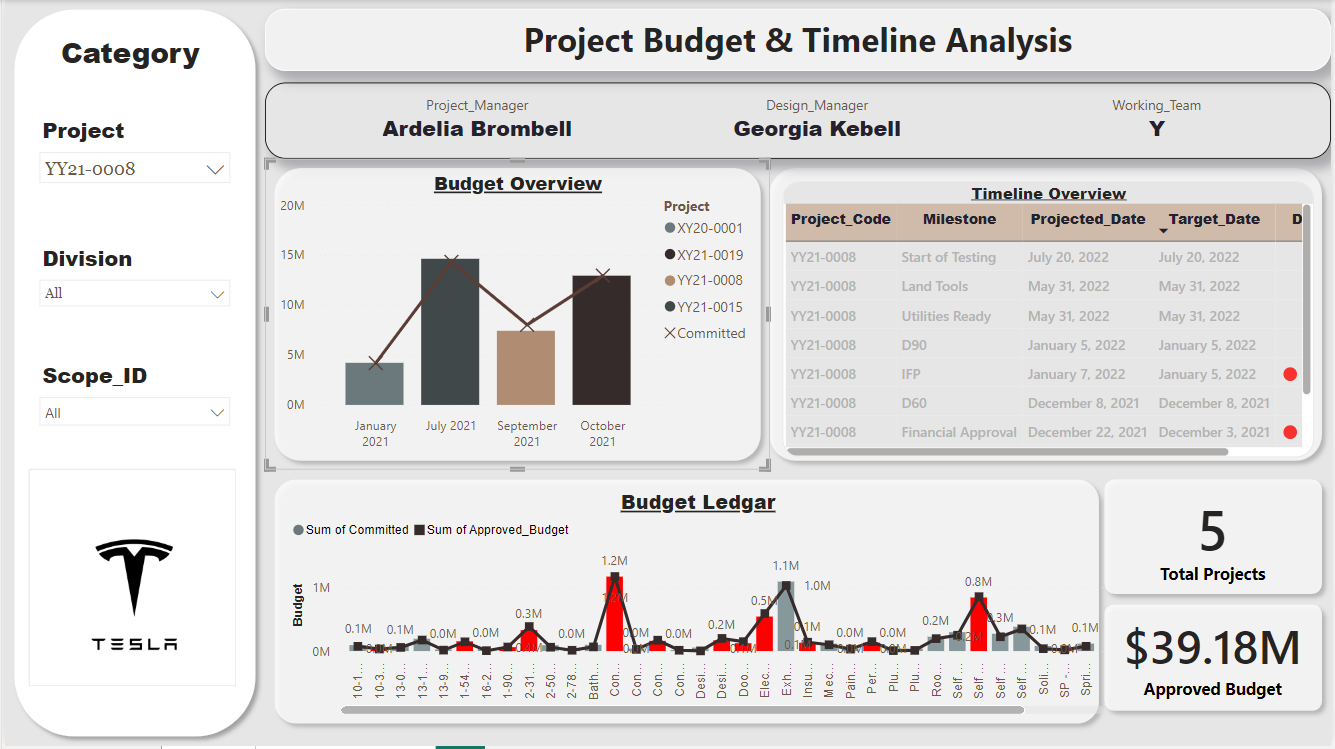

The dashboard page shown, as its layout file describes it:
{"tool":"powerbi","page":{"name":"Test_Module","canvas":[1280,720],"ordinal":0},"visuals":[{"type":"textbox","box":[250.9,8.4,1029.1,60.3],"z":0},{"type":"shape","box":[0,0,250.9,719.8],"z":1000},{"type":"shape","box":[250.9,453.3,813.9,253.7],"z":2000},{"type":"shape","box":[728.7,153.2,551.3,300.4],"z":3000},{"type":"shape","box":[1051.9,453.6,228.1,128.7],"z":4000},{"type":"slicer","fields":{"Values":["Project.Project_Code"]},"box":[23.3,105.7,204.5,96.1],"z":5000},{"type":"shape","box":[250.9,153.2,487.4,300.4],"z":5000,"group":"g1"},{"type":"slicer","fields":{"Values":["Transformed_Project_budget.Division"]},"box":[23.3,229.2,204.5,170.2],"z":6000},{"type":"image","box":[0,428.3,249.7,292],"z":7000},{"type":"cardVisual","fields":{"Data":["Project.Project_Manager","Project.Design_Manager","Project.Working_Team"]},"box":[250.9,79.6,1029.1,73.6],"z":8000},{"type":"textbox","box":[39.8,26.1,161.9,53.5],"z":9000},{"type":"group","id":"g1","title":"Group 1","box":[250.9,153.2,487.4,300.4],"z":10000},{"type":"lineClusteredColumnComboChart","title":"Budget Ledgar","fields":{"Category":["Project.Project_Code","Transformed_Project_budget.Scope"],"Y":["Sum(Transformed_Project_committed.Committed)"],"Y2":["Sum(Transformed_Project_budget.Approved_Budget)"]},"box":[272.2,470.4,792.5,223.8],"z":11000},{"type":"tableEx","title":"Timeline Overview","fields":{"Values":["Project.Project_Code","Milestone.Milestone","Milestone.Projected_Date","Milestone.Target_Date","Milestone.KPI 1"]},"box":[750.4,174.9,512.7,266.6],"z":12000},{"type":"slicer","fields":{"Values":["Transformed_Project_budget.Scope_ID"]},"box":[22.5,342.2,204.3,151.2],"z":13000},{"type":"actionButton","box":[23.3,452.8,200.3,209.9],"z":14000},{"type":"lineStackedColumnComboChart","title":"Budget Overview","fields":{"Category":["Project.Start_Date"],"Series":["Project.Project_Code"],"Y":["Sum(Transformed_Project_budget.Approved_Budget)"],"Y2":["Sum(Transformed_Project_committed.Committed)"]},"box":[260.1,163.8,469.1,277.9],"z":14006,"group":"g1"},{"type":"shape","box":[1052,574.3,228,132.7],"z":15000},{"type":"card","fields":{"Values":["Sum(Transformed_Project_budget.Approved_Budget)"]},"box":[1069.1,574.3,193.7,118.1],"z":16000},{"type":"card","fields":{"Values":["CountNonNull(Project.Project_ID)"]},"box":[1069.1,462.9,193.7,111.4],"z":17000}]}

Visuals, with their boxes in screenshot pixels (x1, y1, x2, y2), scaled from the page's 1280x720 canvas onto the 1335x749 screenshot:
textbox: [262,9,1334,71]
shape: [0,0,262,748]
shape: [262,472,1111,735]
shape: [760,159,1334,472]
shape: [1097,472,1334,606]
slicer - Project.Project_Code: [24,110,238,210]
shape: [262,159,770,472]
slicer - Transformed_Project_budget.Division: [24,238,238,415]
image: [0,446,260,748]
cardVisual - Project.Project_Manager x Project.Design_Manager: [262,83,1334,159]
textbox: [42,27,210,83]
"Group 1" group: [262,159,770,472]
"Budget Ledgar" lineClusteredColumnComboChart: [284,489,1110,722]
"Timeline Overview" tableEx: [783,182,1317,459]
slicer - Transformed_Project_budget.Scope_ID: [23,356,237,513]
actionButton: [24,471,233,689]
"Budget Overview" lineStackedColumnComboChart: [271,170,761,459]
shape: [1097,597,1334,735]
card - Sum(Transformed_Project_budget.Approved_Budget): [1115,597,1317,720]
card - CountNonNull(Project.Project_ID): [1115,482,1317,597]
